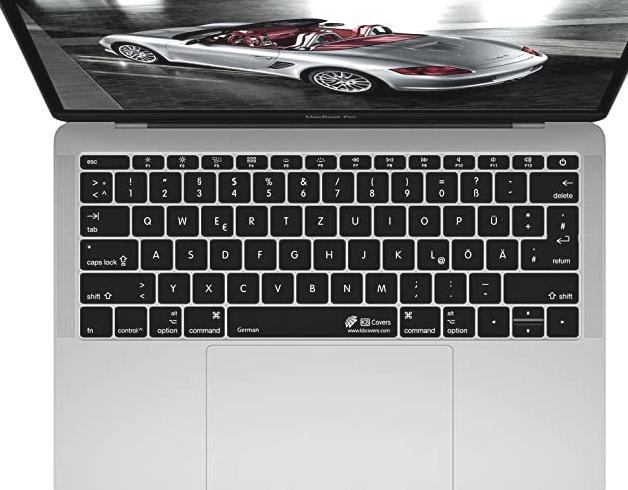0: (424, 169, 457, 202)
1: (113, 169, 146, 201)
2: (147, 169, 180, 201)
3: (182, 169, 215, 202)
4: (217, 169, 249, 201)
5: (251, 169, 284, 201)
6: (286, 169, 319, 201)
7: (320, 169, 353, 202)
8: (355, 169, 387, 202)
9: (389, 169, 422, 201)
a: (139, 236, 171, 268)
accent: (493, 168, 525, 201)
ae: (484, 236, 517, 269)
alt-left: (148, 304, 182, 337)
altgr-right: (440, 304, 473, 337)
b: (294, 270, 327, 302)
c: (224, 270, 258, 303)
caret: (78, 169, 112, 202)
comma: (398, 269, 431, 302)
d: (207, 236, 240, 269)
del: (528, 169, 578, 202)
e: (199, 203, 232, 235)
enter: (546, 203, 578, 271)
f: (242, 236, 274, 268)
g: (277, 236, 309, 268)
h: (311, 236, 344, 268)
hash: (519, 236, 551, 268)
i: (372, 202, 404, 234)
j: (346, 236, 378, 268)
k: (380, 236, 414, 268)
keyboard: (67, 146, 593, 345)
l: (415, 236, 448, 269)
m: (363, 269, 397, 302)
minus: (466, 270, 499, 301)
n: (328, 270, 362, 302)
o: (406, 203, 439, 235)
oe: (449, 236, 483, 269)
p: (441, 203, 473, 235)
plus: (510, 202, 543, 235)
point: (432, 270, 465, 301)
q: (129, 202, 163, 235)
r: (233, 203, 267, 235)
s: (173, 236, 206, 268)
shift-left: (78, 269, 156, 303)
shift-lock: (78, 236, 137, 269)
shift-right: (502, 269, 579, 303)
space: (224, 304, 397, 337)
ss: (458, 169, 491, 201)
strg-left: (112, 304, 148, 337)
t: (268, 203, 301, 234)
tab: (78, 202, 128, 235)
u: (337, 203, 370, 235)
ue: (475, 202, 508, 235)
v: (260, 269, 293, 302)
w: (164, 202, 198, 235)
x: (191, 270, 224, 302)
y: (156, 270, 189, 302)
z: (303, 203, 336, 235)
